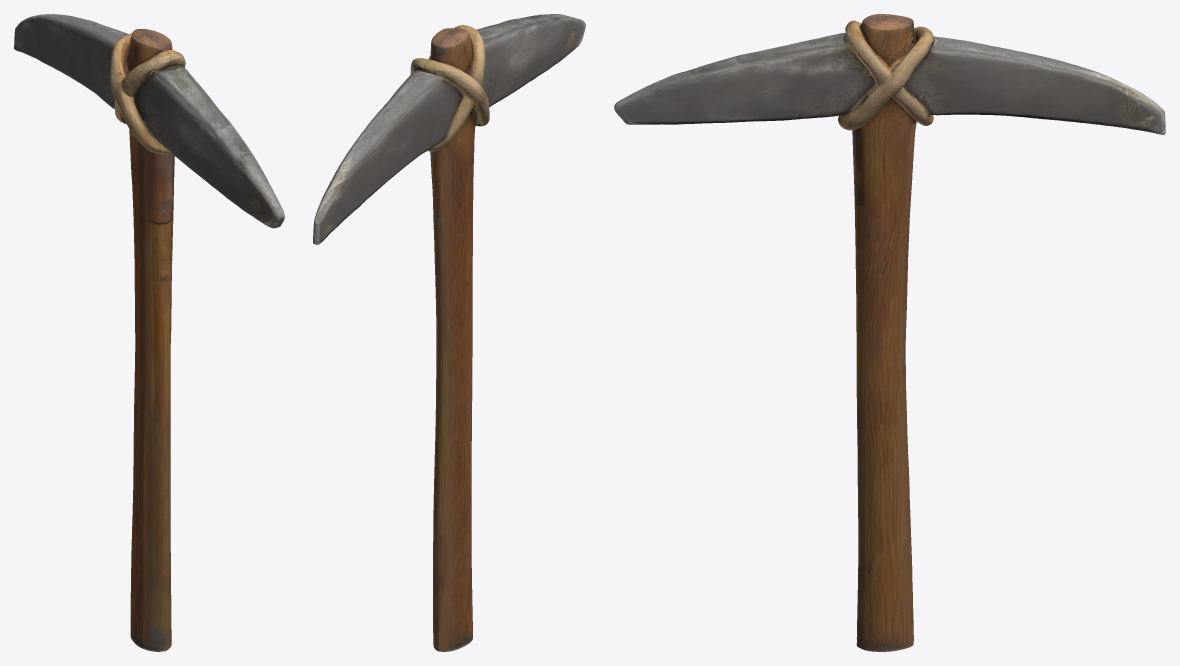
The model's file is StonePickaxe.fbx.
The picture shows the model from 3 angles, left to right: view 1: azimuth 30°, elevation 25°; view 2: azimuth 150°, elevation 25°; view 3: azimuth 270°, elevation 25°; orthographic projection. The views are drawn at different scales.
Parts seen in each view (by area): view 1: temp; view 2: temp; view 3: temp.
Boxes of the visible parts, box(x1,y1,x2,y2) form: temp: box(14, 14, 284, 651); temp: box(313, 14, 585, 651); temp: box(614, 14, 1165, 651).
Bounding box in the file's own units: 23.62 × 198 × 158.
1 material, 1 textured.
